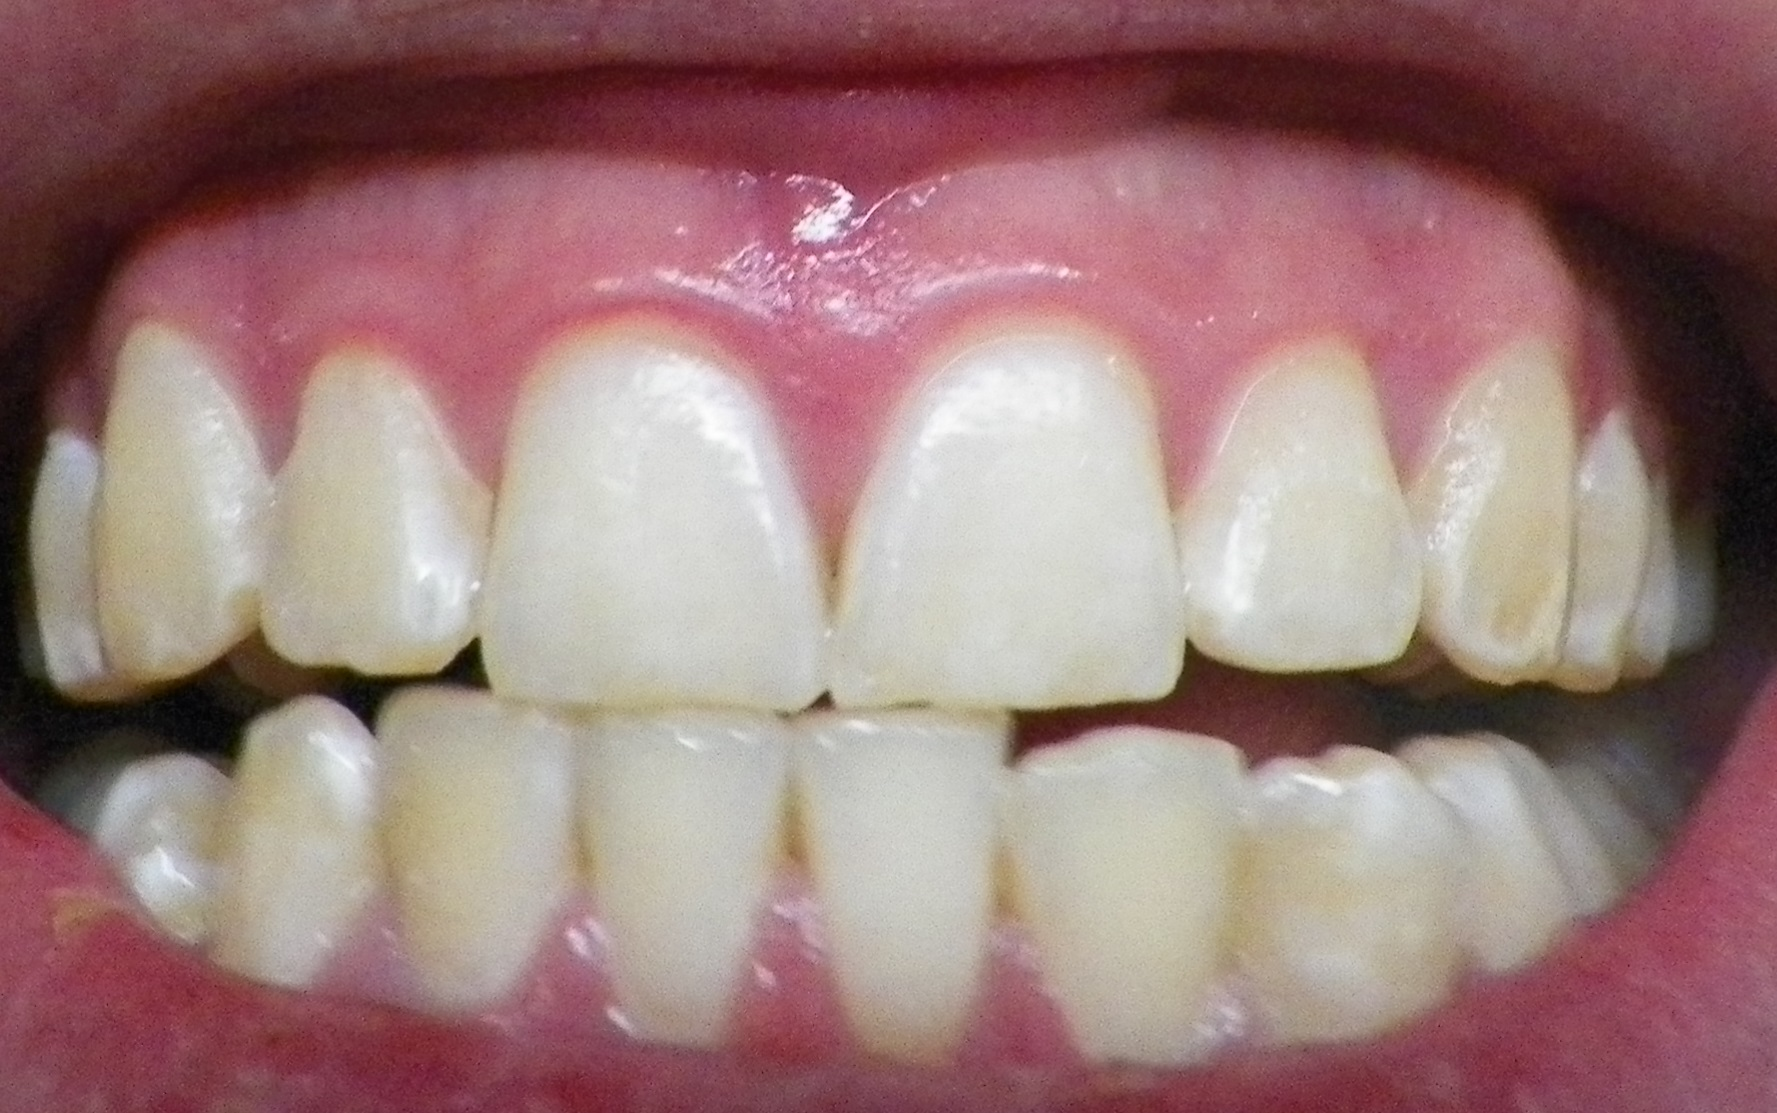boca: (31, 322, 1719, 1057)
